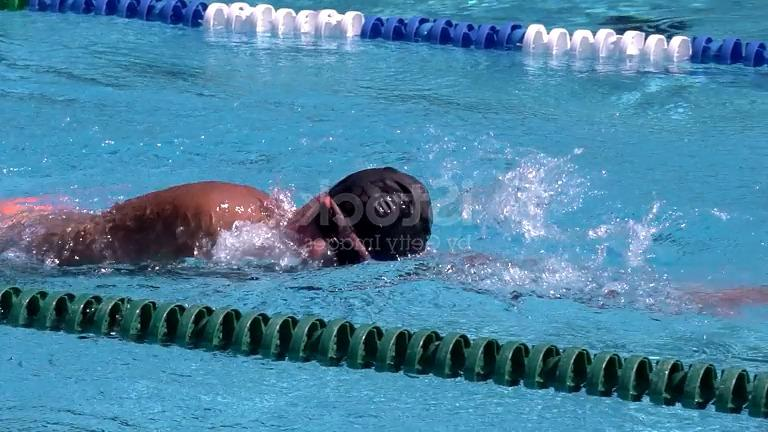Swimming: (35, 74, 747, 328)
